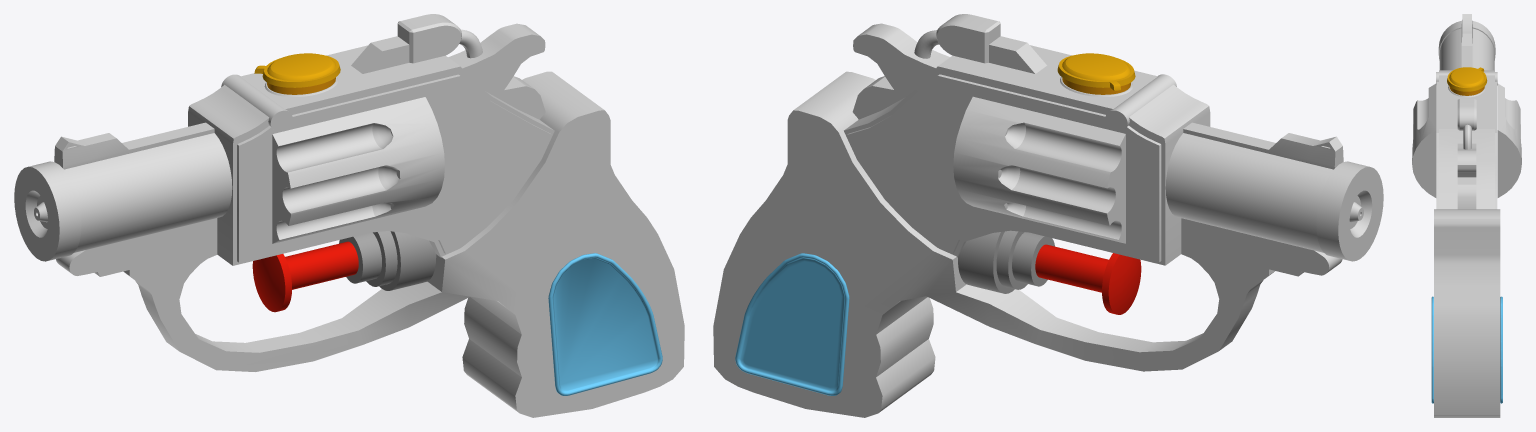
The model's file is SMALLwatergun.fbx.
3 views of the same model, side by side, from view 1: azimuth 30°, elevation 25°; view 2: azimuth 150°, elevation 25°; view 3: azimuth 270°, elevation 25° (orthographic). The views are drawn at different scales.
Visible parts, largest first — view 1: Circle.004, Plane, shottriggerpan, shotTrigger, Cylinder.009; view 2: Circle.004, Plane.001, shottriggerpan, shotTrigger, Cylinder.009; view 3: Circle.004, Cylinder.009, Plane, Plane.001, Cylinder.010.
Part boxes in pixels (bbox=[...]): Circle.004: bbox=[14, 14, 684, 417]; Plane: bbox=[548, 253, 662, 395]; shottriggerpan: bbox=[339, 231, 436, 290]; shotTrigger: bbox=[252, 241, 358, 312]; Cylinder.009: bbox=[254, 53, 340, 87]; Circle.004: bbox=[713, 14, 1383, 417]; Plane.001: bbox=[735, 253, 849, 395]; shottriggerpan: bbox=[958, 230, 1054, 293]; shotTrigger: bbox=[1035, 244, 1141, 314]; Cylinder.009: bbox=[1057, 53, 1135, 90]; Circle.004: bbox=[1412, 14, 1521, 417]; Cylinder.009: bbox=[1447, 67, 1487, 91]; Plane: bbox=[1431, 296, 1433, 403]; Plane.001: bbox=[1500, 296, 1502, 403]; Cylinder.010: bbox=[1449, 86, 1484, 95].
Bounding box in the file's own units: 169 × 105 × 41.33.
